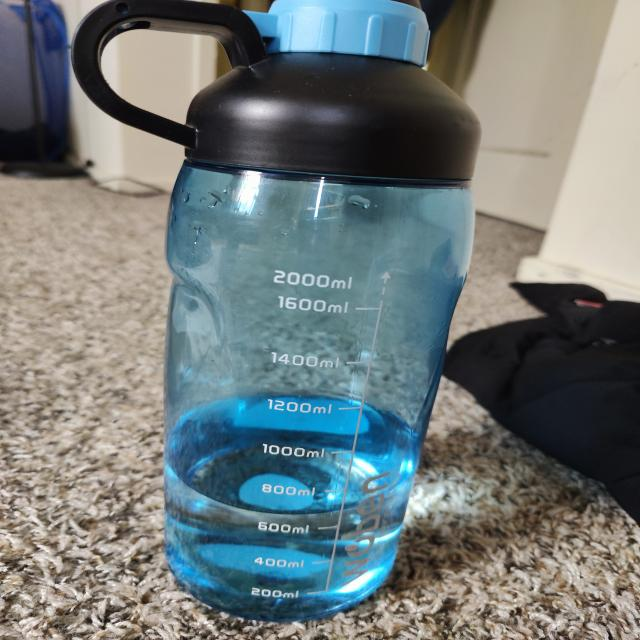bottle: (75, 0, 463, 607)
